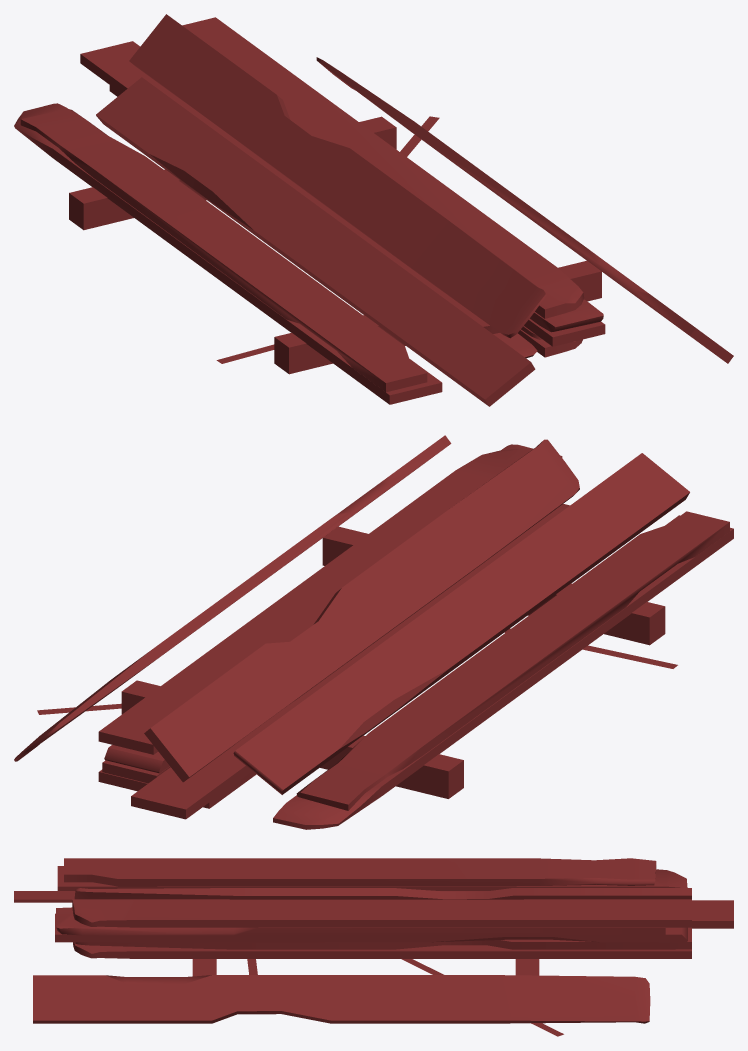
The model's file is SM_WoodPlankPack10.fbx.
3 views of the same model, one above another, from view 1: azimuth 30°, elevation 25°; view 2: azimuth 150°, elevation 25°; view 3: azimuth 270°, elevation 25° (orthographic). The views are drawn at different scales.
Visible parts, largest first — view 1: WoodPlankPack10; view 2: WoodPlankPack10; view 3: WoodPlankPack10.
Part boxes in pixels (x1,y1,x2,y2): WoodPlankPack10: (14, 14, 733, 406); WoodPlankPack10: (14, 435, 733, 829); WoodPlankPack10: (14, 858, 733, 1036).
Bounding box in the file's own units: 120 × 25.07 × 221.
